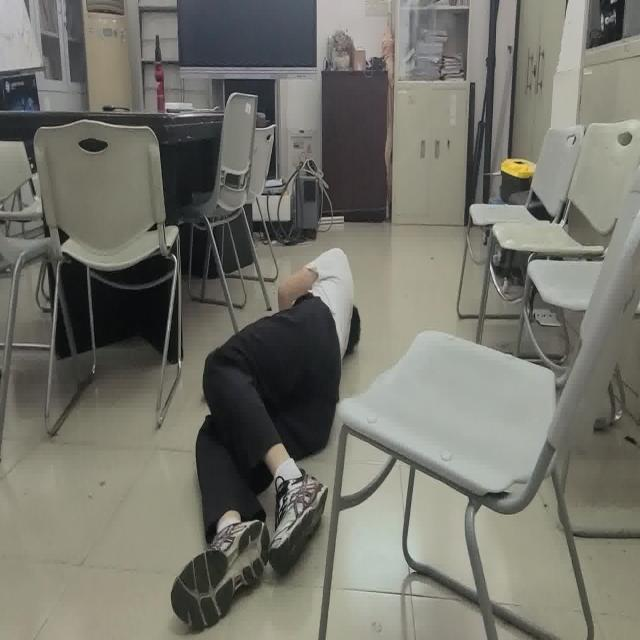fall: (170, 244, 364, 634)
